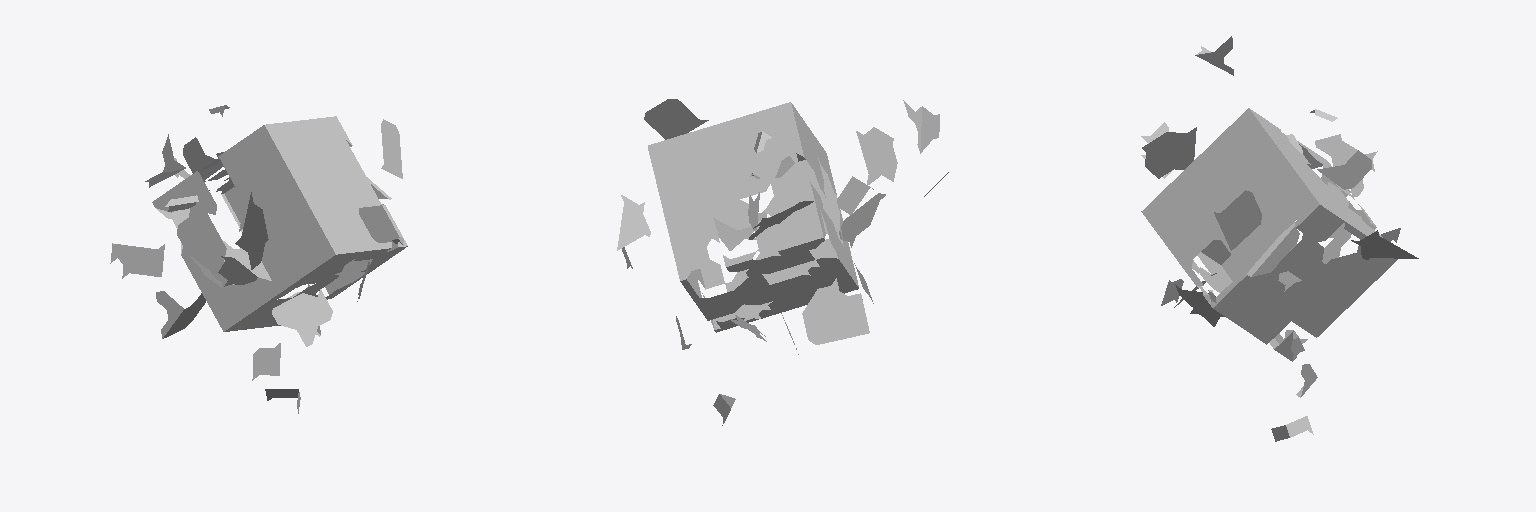
The model's file is explode_000034.obj.
3 renders of one model, left to right at view 1: azimuth 30°, elevation 25°; view 2: azimuth 150°, elevation 25°; view 3: azimuth 270°, elevation 25°, orthographic.
Visible parts, largest first — view 1: Cube_Cube.001; view 2: Cube_Cube.001; view 3: Cube_Cube.001.
Part boxes in pixels (left/top/right/bottom): Cube_Cube.001: left=110, top=105, right=407, bottom=413; Cube_Cube.001: left=617, top=99, right=948, bottom=425; Cube_Cube.001: left=1141, top=36, right=1418, bottom=441.
Bounding box in the file's own units: 4.31 × 4.84 × 3.69.